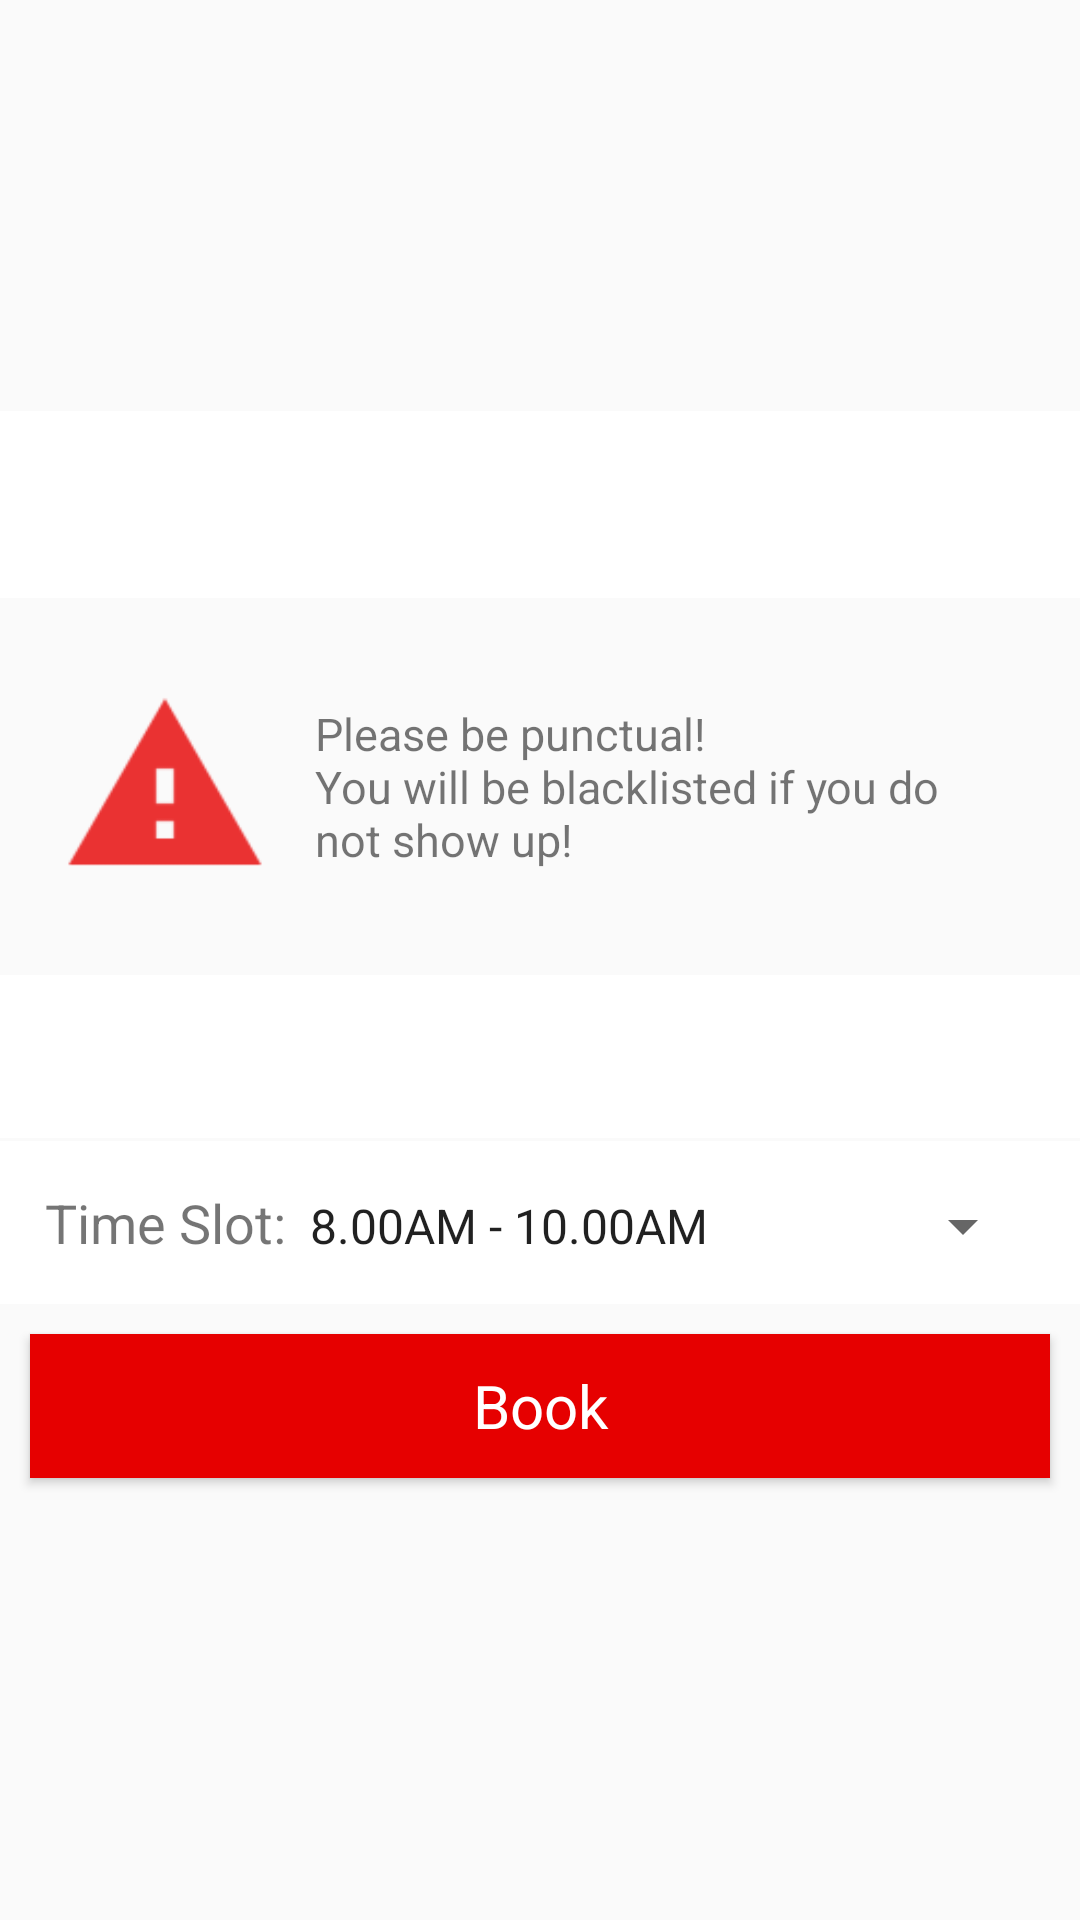

Icon click points for this 1080px×1920px phone screenshot, format (x=x, y=y):
warning: (x=165, y=782)
